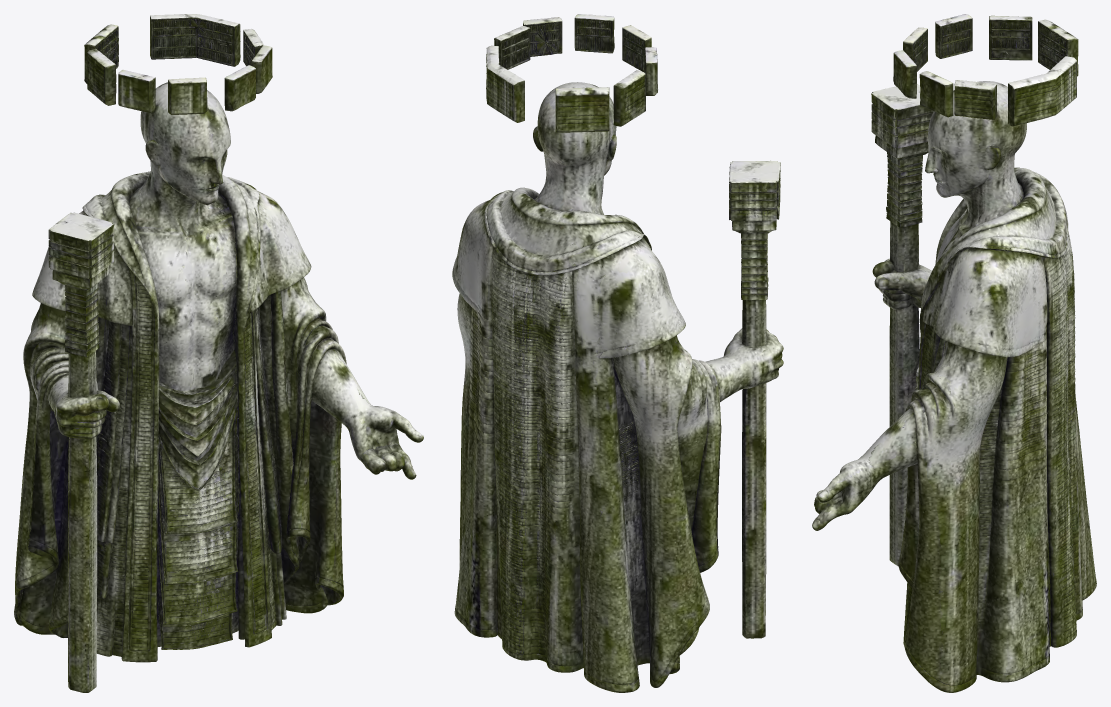
Rendered from statue.glb.
3 views of the same model, side by side, from view 1: azimuth 30°, elevation 25°; view 2: azimuth 150°, elevation 25°; view 3: azimuth 270°, elevation 25° (orthographic).
Visible parts, largest first — view 1: Object_5; view 2: Object_5; view 3: Object_5.
Boxes of the visible parts, x1,y1,x2,y2 form: Object_5: (14, 14, 423, 692); Object_5: (452, 14, 783, 692); Object_5: (812, 14, 1096, 692).
Bounding box in the file's own units: 3.64 × 6.11 × 2.71.
Materials: 1 (1 with a texture image).
